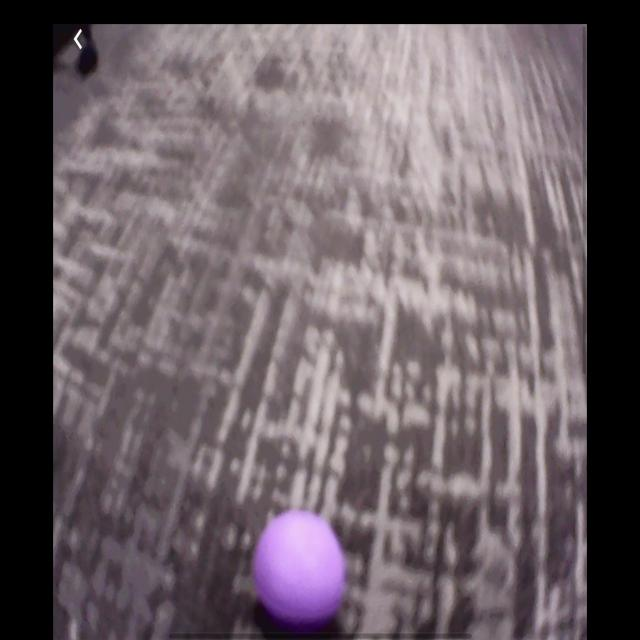ball: (252, 508, 348, 627)
